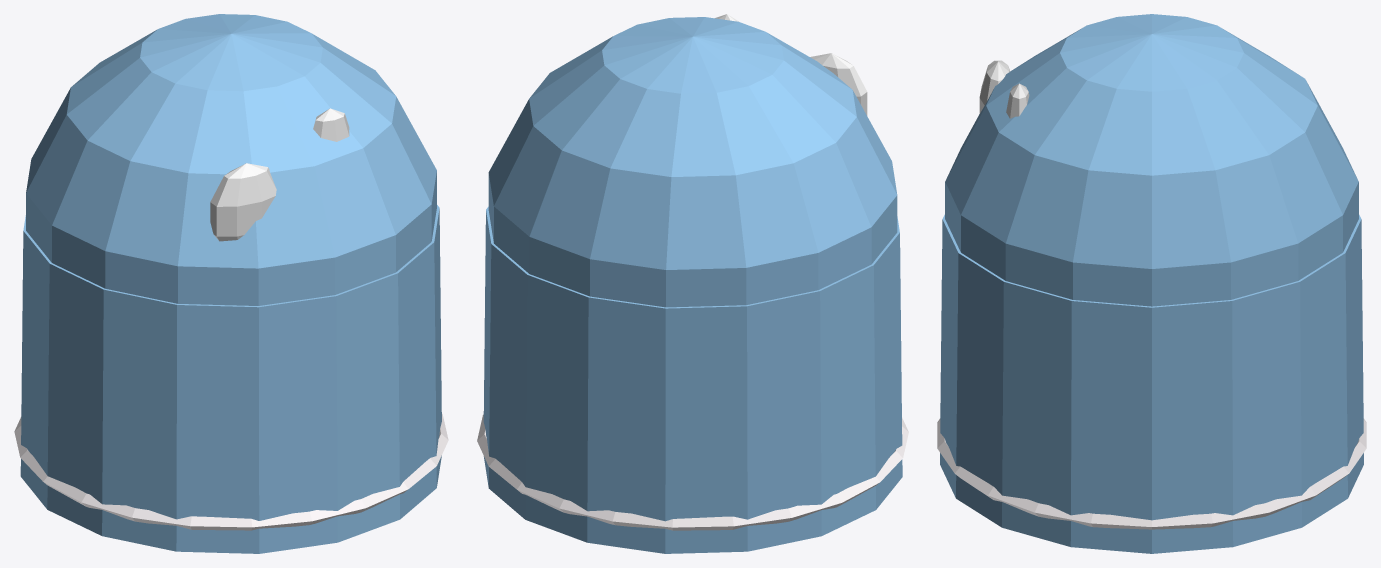
Rendered from gominola_azul.glb.
The picture shows the model from 3 angles, left to right: view 1: azimuth 30°, elevation 25°; view 2: azimuth 150°, elevation 25°; view 3: azimuth 270°, elevation 25°; orthographic projection.
Parts seen in each view (by area): view 1: gominola_azul; view 2: gominola_azul; view 3: gominola_azul.
Part boxes in pixels (bbox=[...]): gominola_azul: bbox=[14, 14, 448, 553]; gominola_azul: bbox=[477, 14, 908, 553]; gominola_azul: bbox=[937, 14, 1366, 553].
Bounding box in the file's own units: 1.64 × 1.79 × 1.62.
